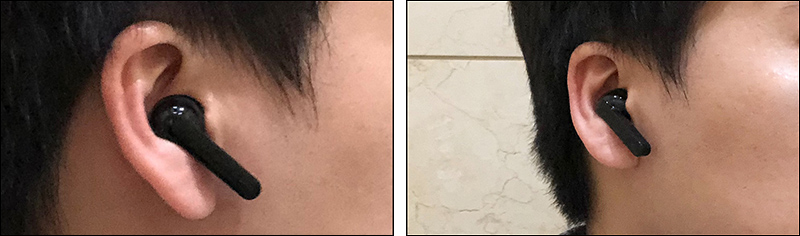earphone: (99, 21, 263, 222), (568, 42, 653, 169)
